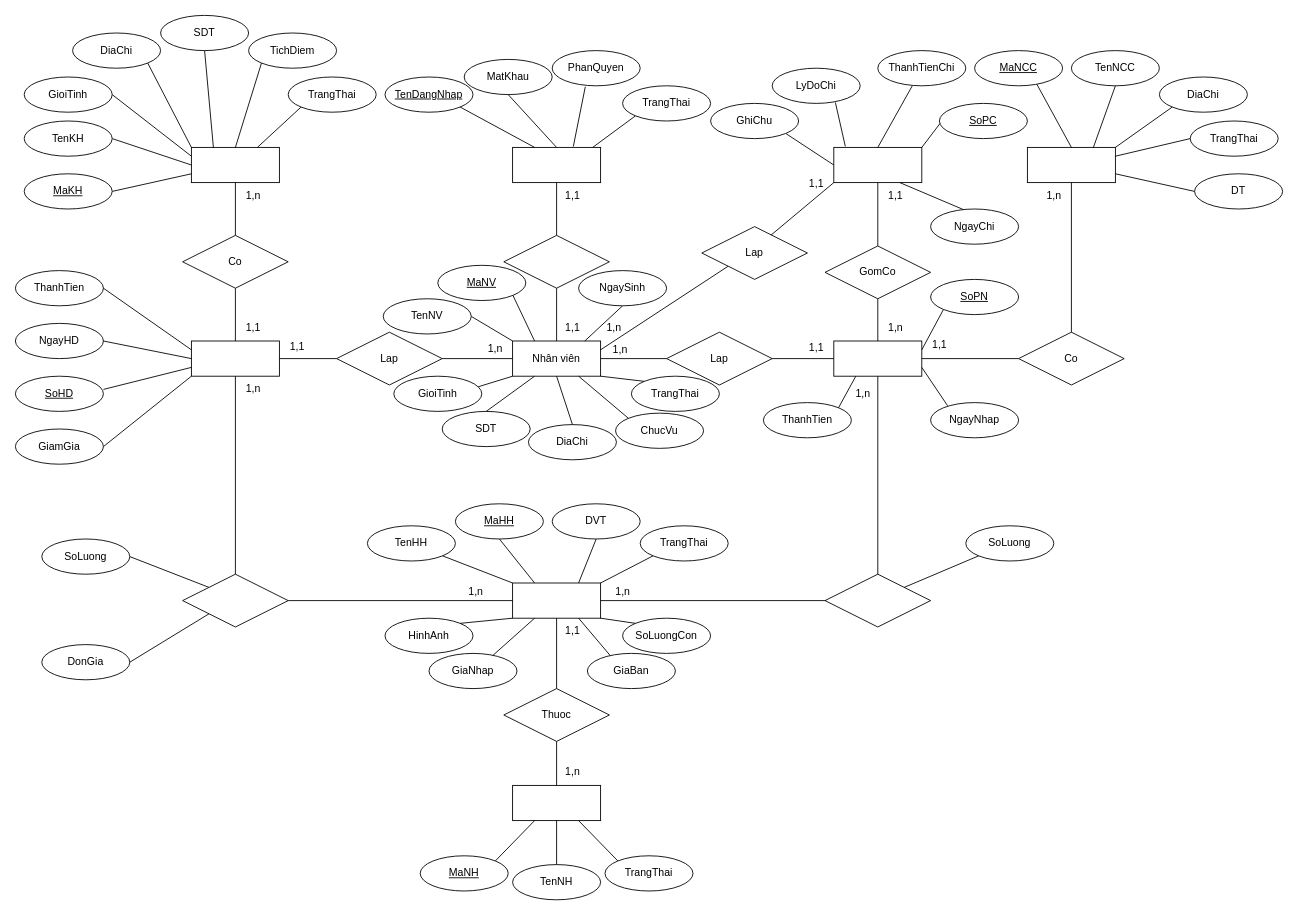
Image size: 1298x915. Some labels were removed from this diagram. Each missing label, with the centre of its shape:
ChiTietHoaDon: [235,600]
ChiTietPhieuNhap: [877,600]
Hàng hóa: [556,600]
Hóa đơn: [235,358]
Khách hàng: [235,165]
Nhà cung cấp: [1071,165]
Nhóm hàng: [556,803]
Phiếp nhập: [877,358]
Phiếu chi: [877,165]
SoHuu: [556,261]
Tài khoản: [556,165]
